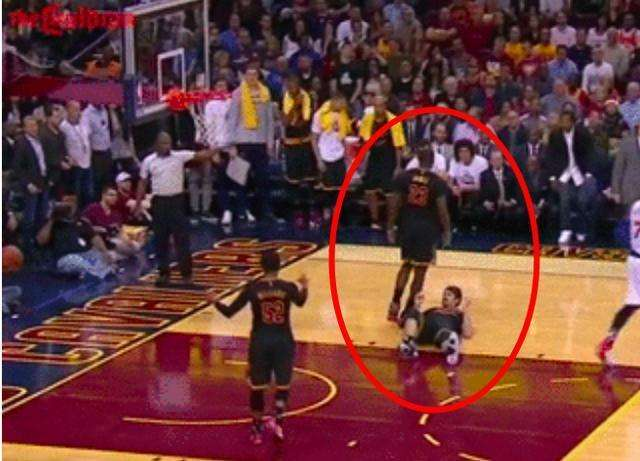10+: (7, 2, 639, 445)
down: (395, 273, 484, 392)
